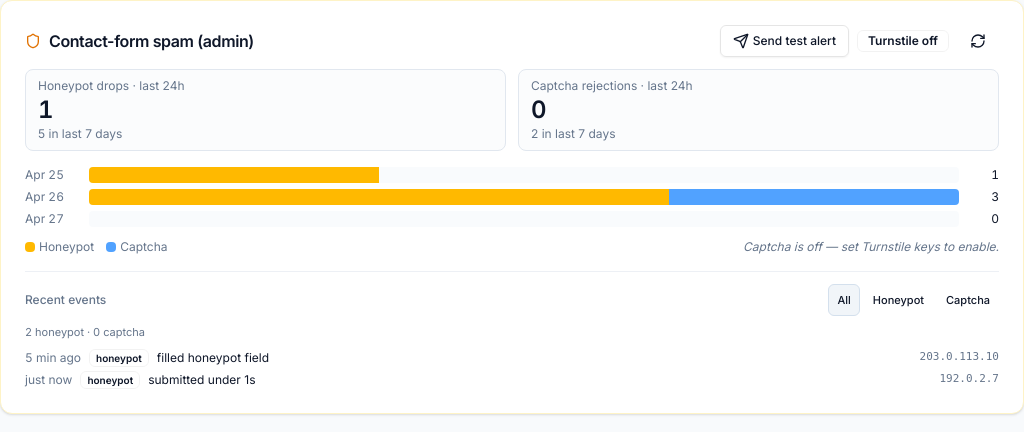
SpamStatsCard fetch-driven states › recent-events scanning aids › shows an empty-state line when the active filter matches no events
expect the element with test id "admin-spam-recent" is shown: met, box 25,271 -> 999,388
Step 1. Click the button with test id "admin-spam-recent-filter-captcha" → (968, 300), box 937,284 -> 999,316
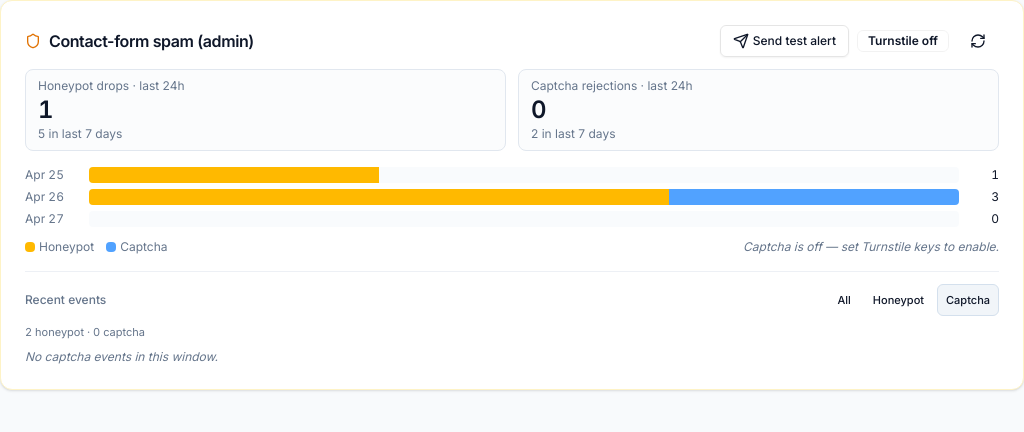
expect no list items with test id "admin-spam-recent-row" are shown: met
expect the text with test id "admin-spam-recent-empty" shows "No captcha events": met, box 25,348 -> 218,364
